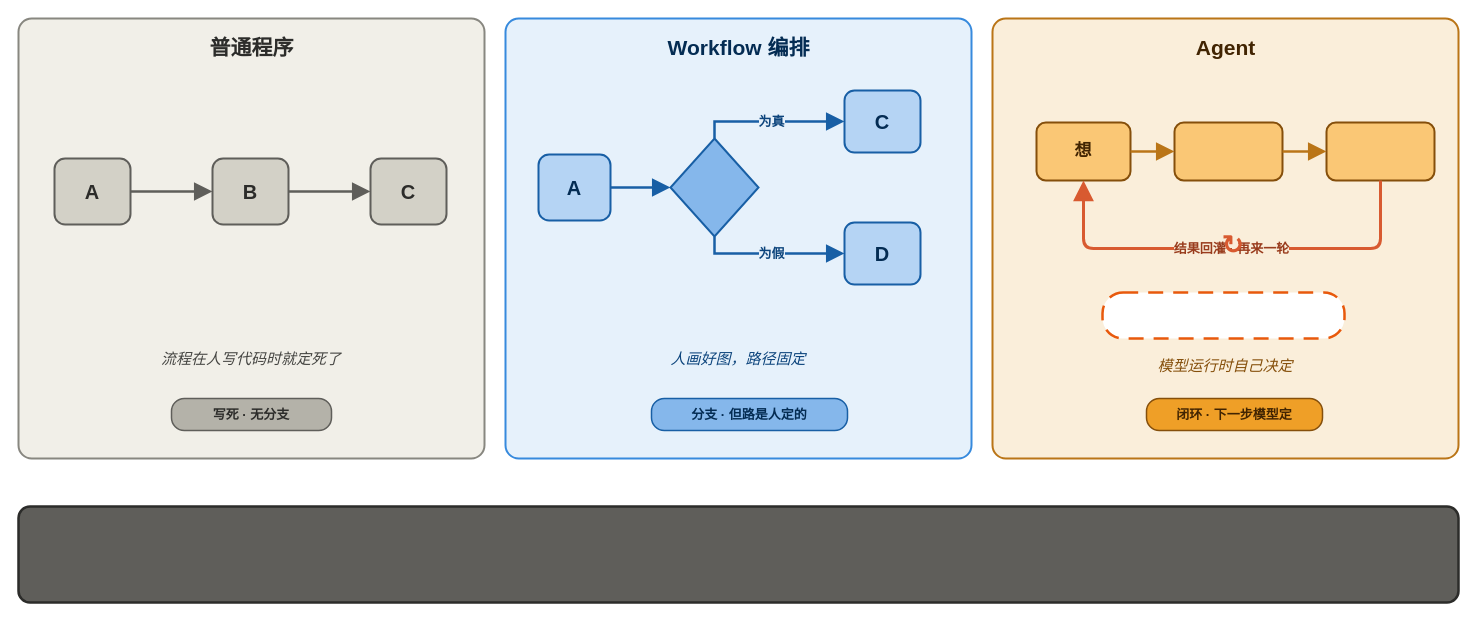
Some shapes in this 1477 by 621 pixel diagram are drawn without their labels. The box of each missing label's shape, as (x1, y1, x2, y2) in pixels:
LLM 决定下一步: (1101, 291, 1345, 339)
差别只在这一句 —— 下一步谁说了算: (17, 505, 1459, 603)
看结果: (1325, 121, 1435, 181)
调工具: (1173, 121, 1283, 181)
